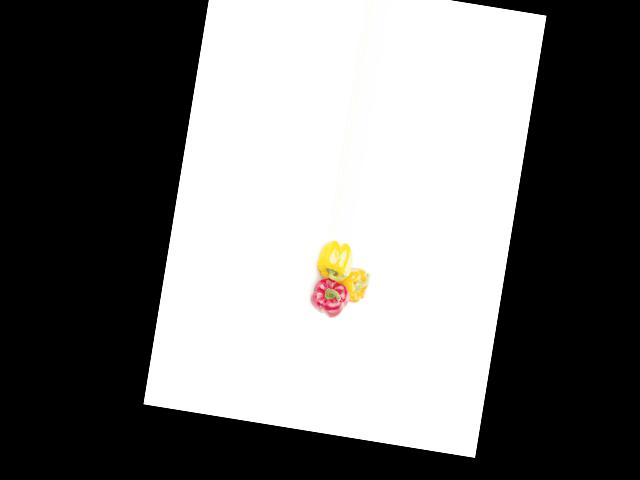bell_pepper: (312, 237, 356, 281)
